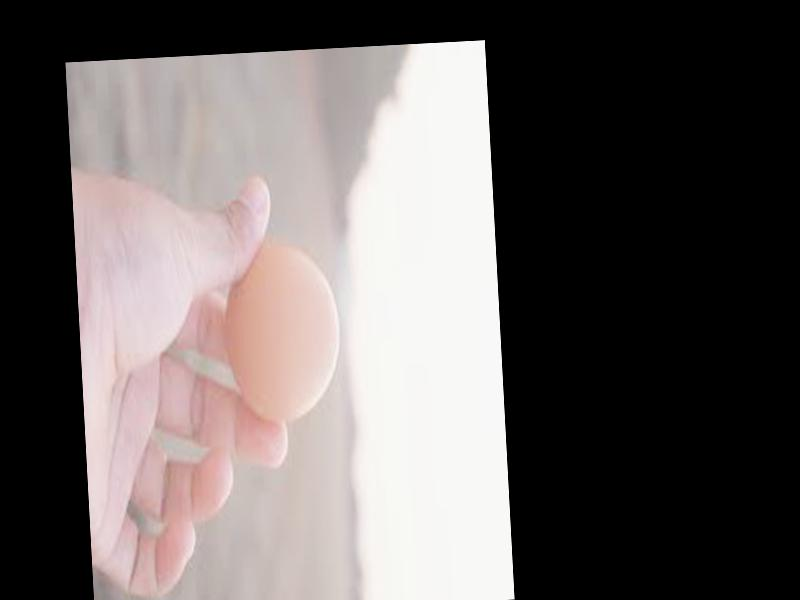Eggs: (223, 241, 344, 424)
